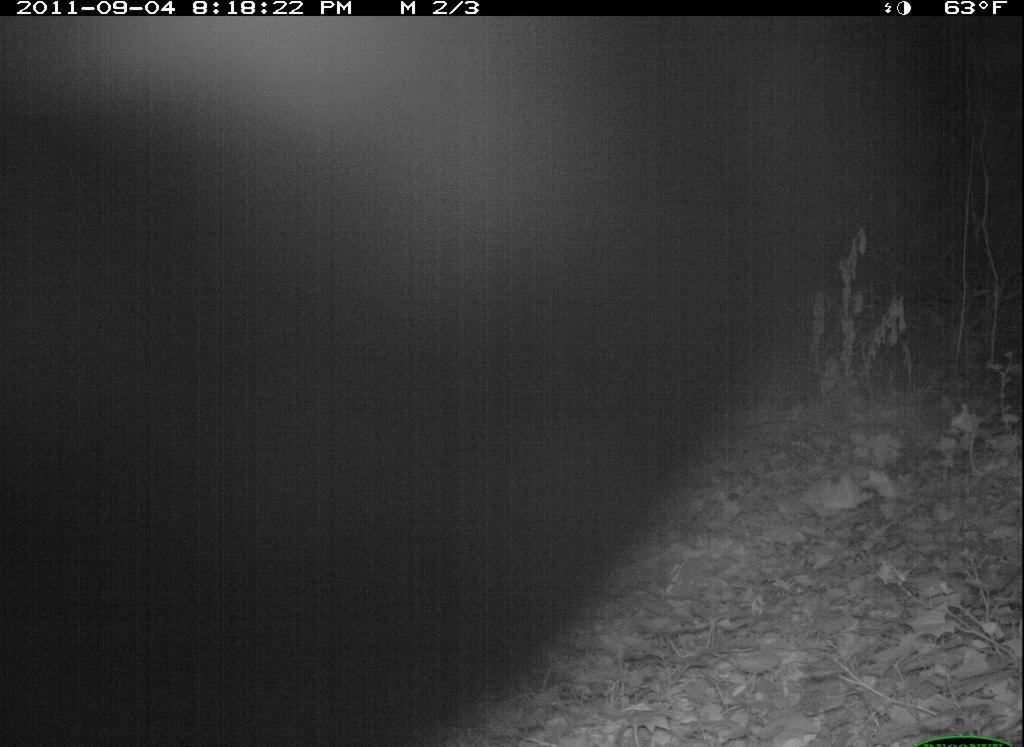opossum: (2, 15, 934, 747)
